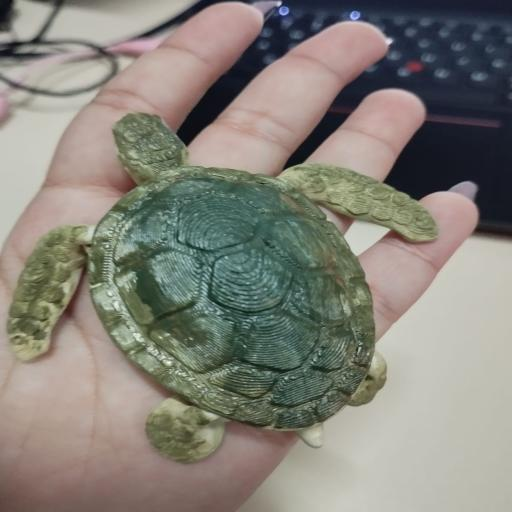Tugarin-modelo1: (6, 112, 437, 462)
